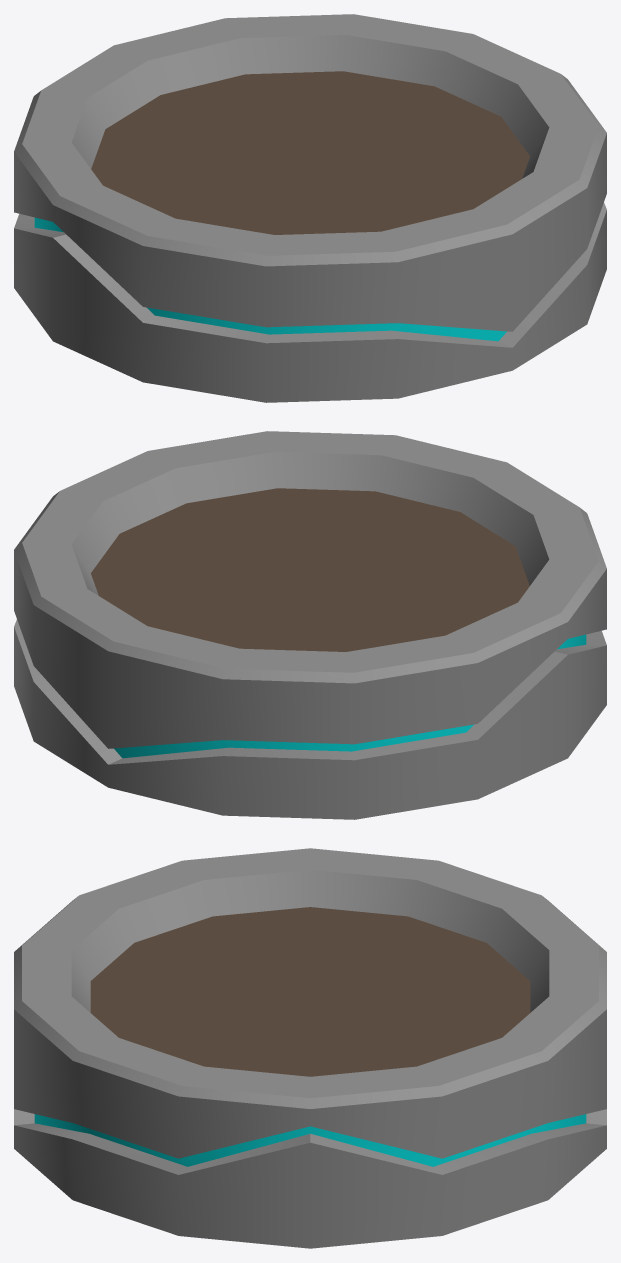
Rendered from SM_Spawn_point.fbx.
The picture shows the model from 3 angles, top to bottom: view 1: azimuth 30°, elevation 25°; view 2: azimuth 150°, elevation 25°; view 3: azimuth 270°, elevation 25°; orthographic projection. The views are drawn at different scales.
Visible parts, largest first — view 1: SM_spawn_point; view 2: SM_spawn_point; view 3: SM_spawn_point.
Boxes of the visible parts, x1=… form: SM_spawn_point: x1=14, y1=14, x2=606, y2=402; SM_spawn_point: x1=14, y1=431, x2=606, y2=819; SM_spawn_point: x1=14, y1=848, x2=606, y2=1248.
Size of the model in its own units: 292 by 77.91 by 285.
